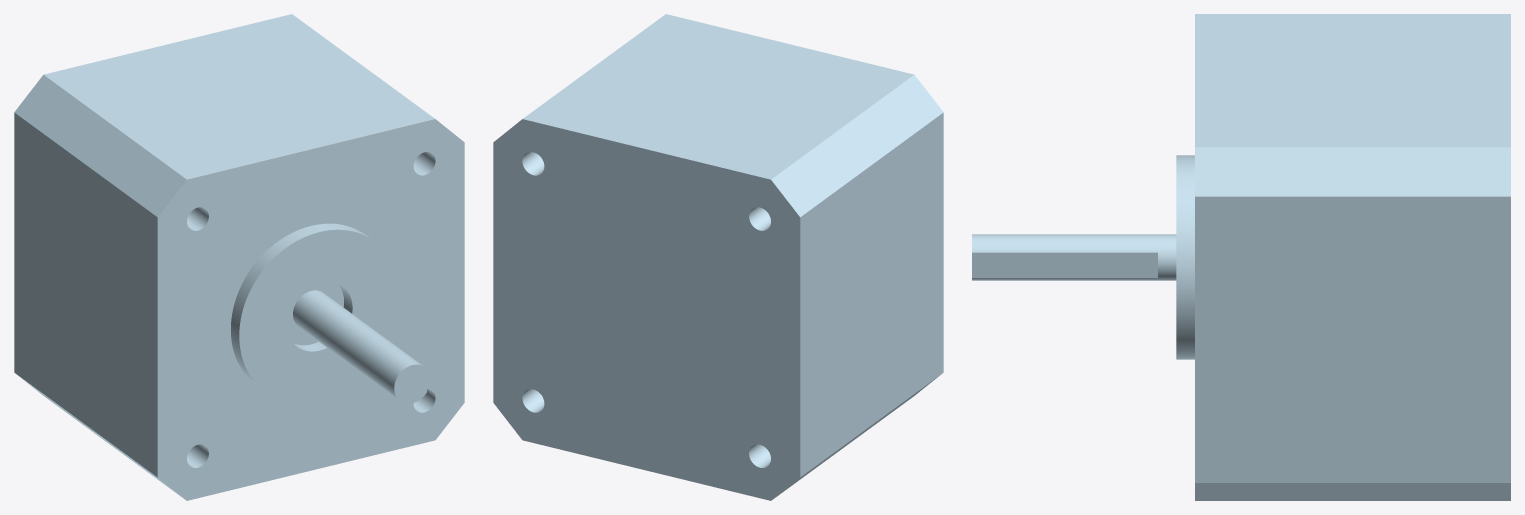
Rendered from nema17_smal.gltf.
3 renders of one model, left to right at view 1: azimuth 30°, elevation 25°; view 2: azimuth 150°, elevation 25°; view 3: azimuth 270°, elevation 25°, orthographic. The views are drawn at different scales.
Visible parts, largest first — view 1: mesh43, mesh48, mesh46, mesh37, mesh47, mesh39, mesh38, mesh35, mesh41; view 2: mesh45, mesh48, mesh46, mesh47; view 3: mesh52, mesh46, mesh44, mesh51, mesh39, mesh40, mesh38.
Boxes of the visible parts, <box> form: mesh43: <box>157,119,464,500</box>; mesh48: <box>14,112,157,476</box>; mesh46: <box>44,14,434,179</box>; mesh37: <box>239,229,399,402</box>; mesh47: <box>14,75,186,217</box>; mesh39: <box>293,290,422,399</box>; mesh38: <box>231,223,370,388</box>; mesh35: <box>286,281,343,345</box>; mesh41: <box>394,364,426,403</box>; mesh45: <box>493,119,800,500</box>; mesh48: <box>800,112,943,476</box>; mesh46: <box>523,14,913,179</box>; mesh47: <box>771,75,943,217</box>; mesh52: <box>1195,196,1510,482</box>; mesh46: <box>1195,14,1510,147</box>; mesh44: <box>1195,147,1510,196</box>; mesh51: <box>1195,483,1510,500</box>; mesh39: <box>972,234,1176,280</box>; mesh40: <box>972,252,1157,277</box>; mesh38: <box>1176,155,1194,359</box>.
Bounding box in the file's own units: 0.042 × 0.042 × 0.058.
